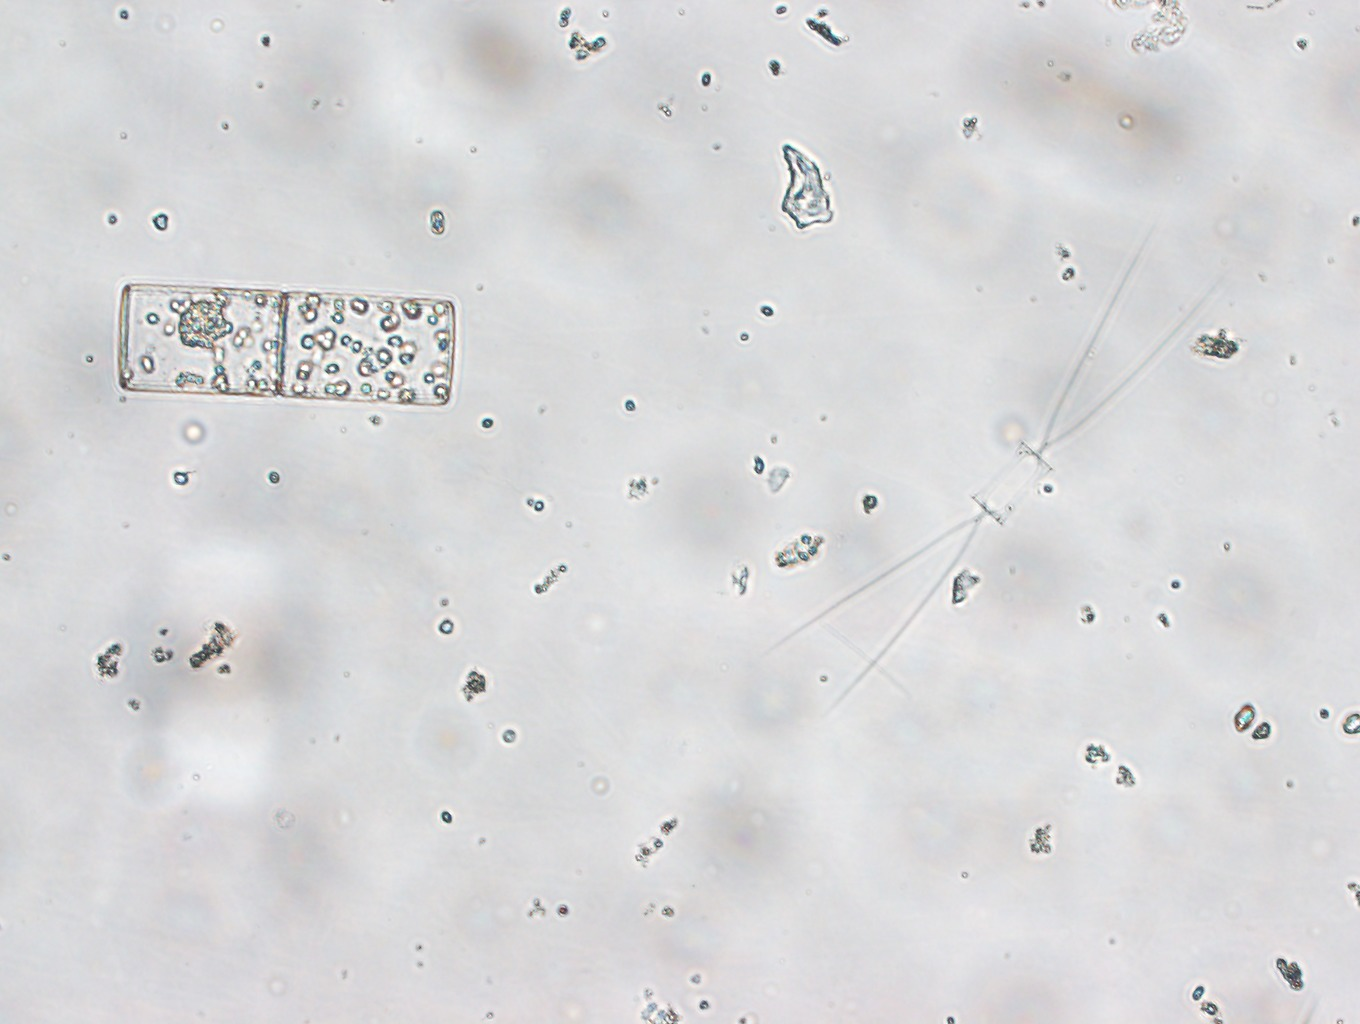chaetoceros: (776, 245, 1223, 695)
guinardia flaccida: (110, 276, 474, 417)
